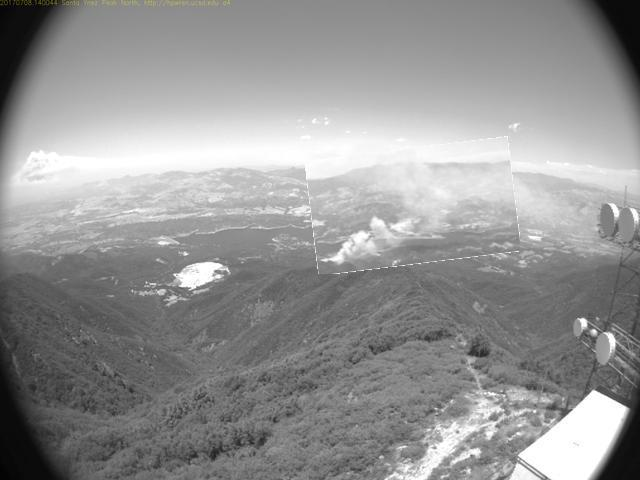smoke: (309, 143, 519, 270)
